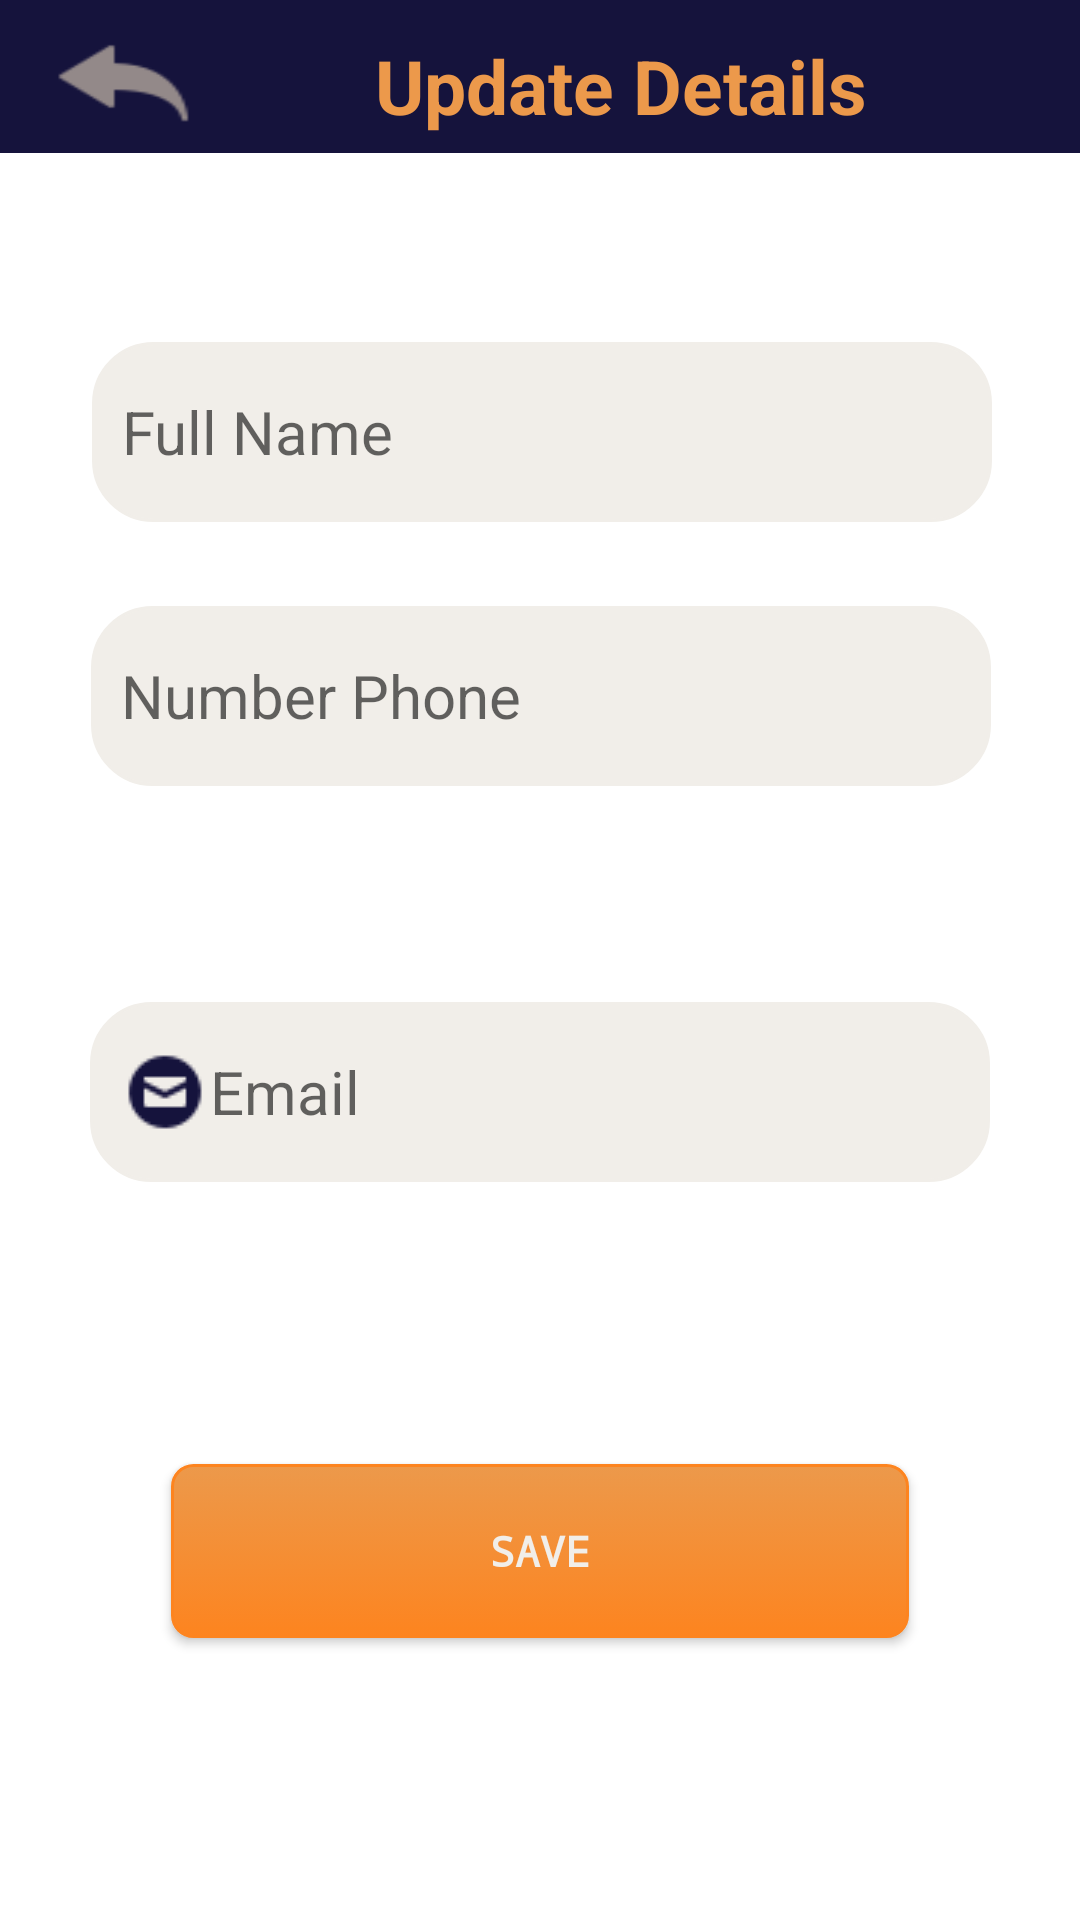

Icon bounding boxes for this 1080px×1920px phone screenshot, format bbox=[x1, y1, x2, y2]:
back: bbox=[58, 45, 189, 121]
